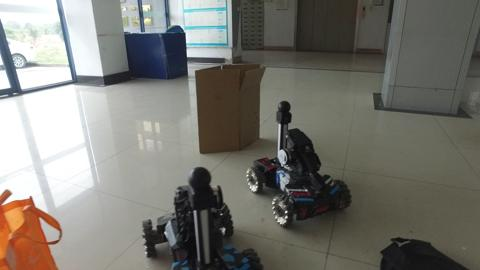box: (191, 57, 265, 153)
chariot: (139, 168, 265, 270), (248, 99, 350, 222)
